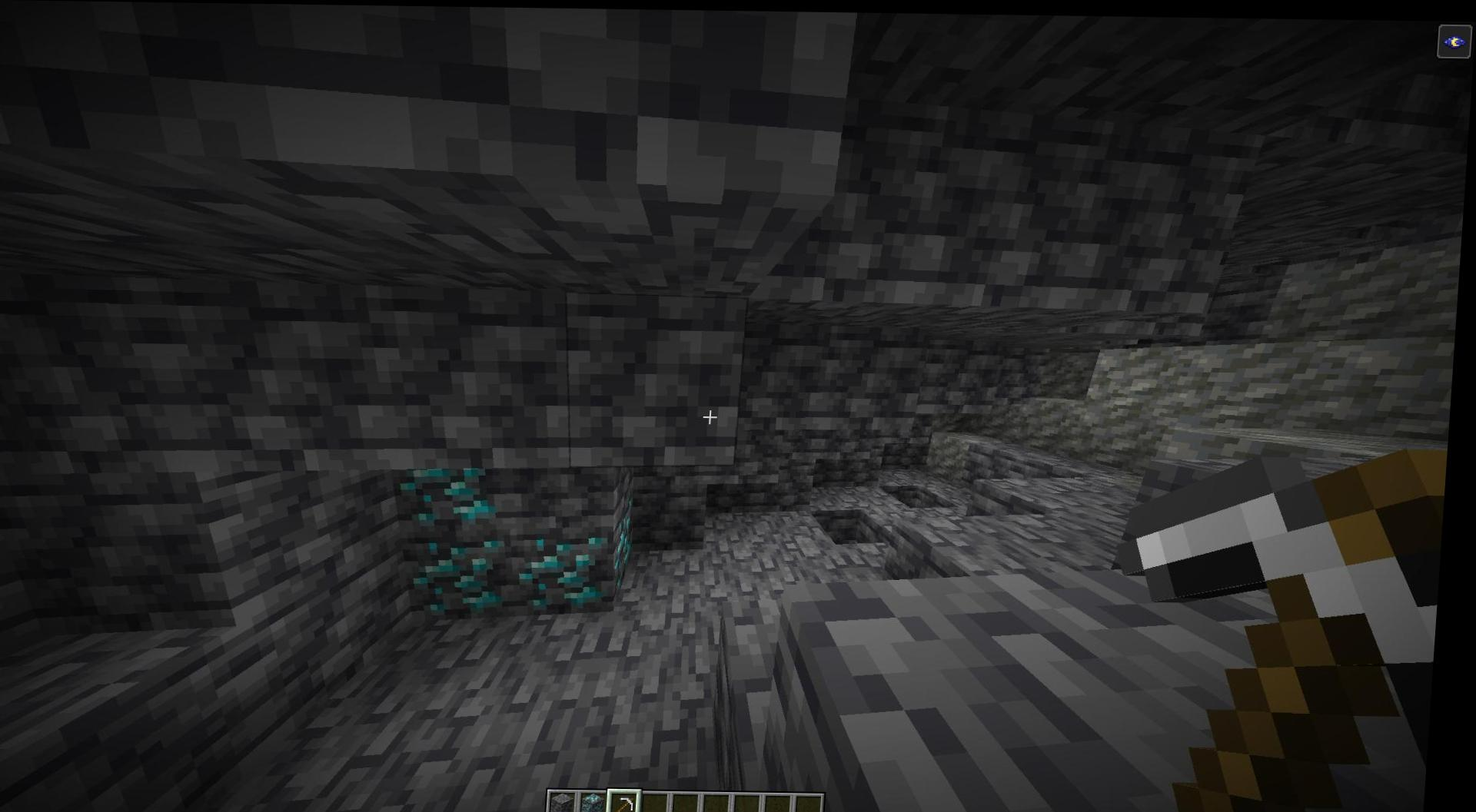diamond ore: (409, 534, 524, 620), (516, 529, 621, 609), (399, 460, 514, 532), (617, 497, 645, 602)
